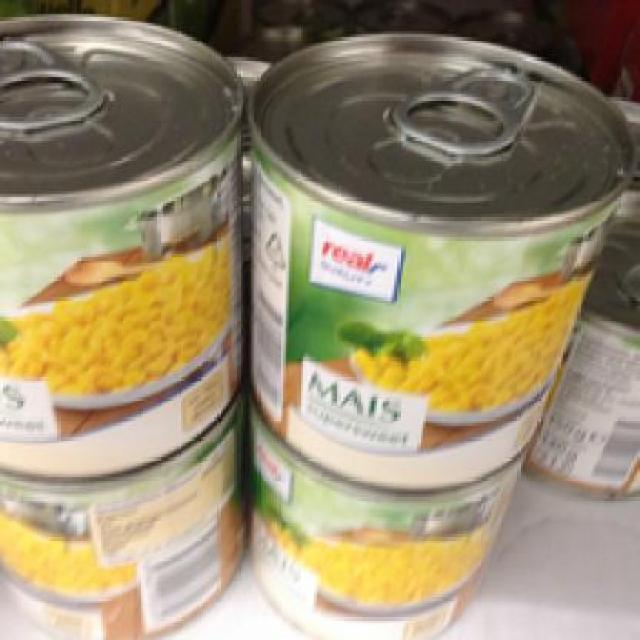Corn: (243, 29, 632, 488), (0, 11, 246, 480)
